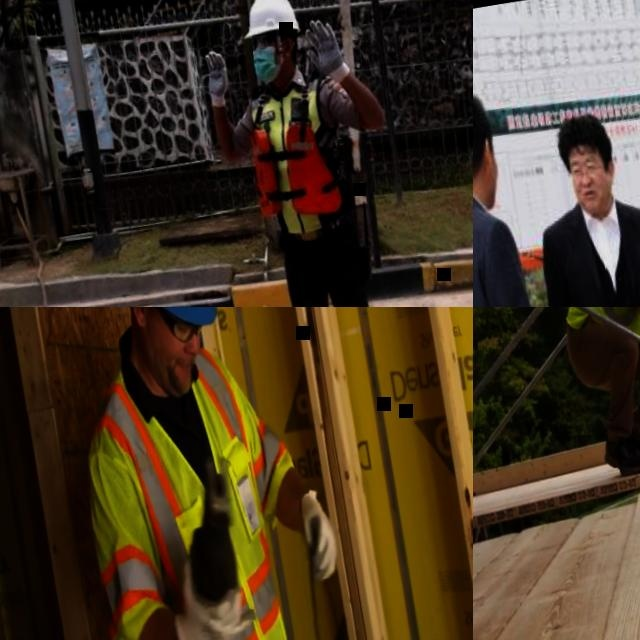Hardhat: (102, 307, 221, 336), (234, 0, 301, 38)
Mask: (252, 38, 298, 80)
NO-Hardhat: (556, 108, 611, 156), (473, 88, 489, 148)
NO-Mask: (151, 350, 194, 397), (575, 177, 612, 214), (480, 163, 506, 206)
NO-Safety Vest: (549, 200, 640, 307), (473, 198, 550, 307)
Person: (35, 307, 366, 640), (188, 0, 451, 307), (473, 84, 594, 307), (512, 98, 640, 307), (543, 307, 640, 483)
Safety Vest: (61, 326, 333, 640), (239, 75, 351, 234), (551, 307, 640, 347)
